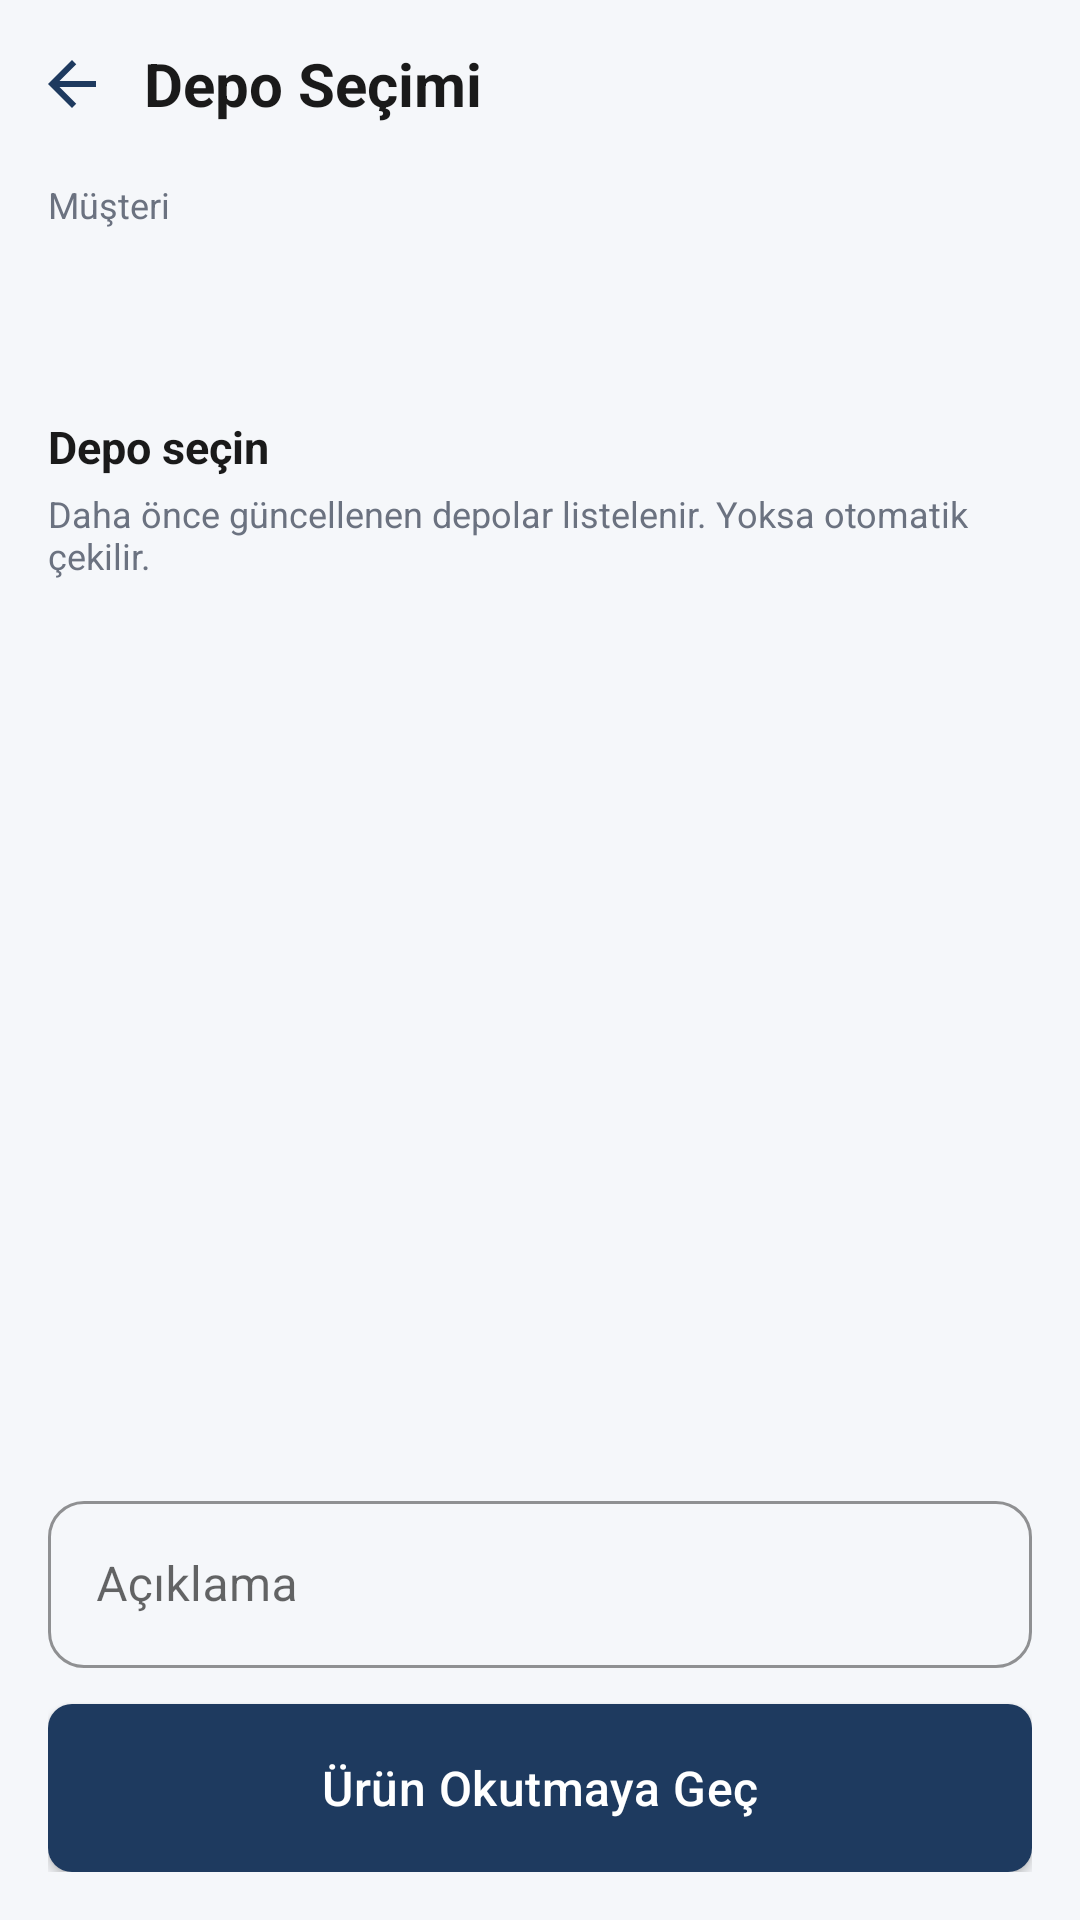

Named icons in this screenshot (1080*1920) and their bounding boxes, (x1, y1, x2, y2):
Geri: (48, 60, 96, 108)
